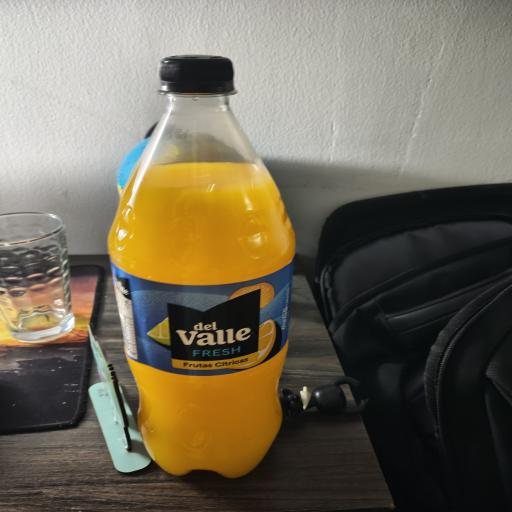Jugo del valle: (109, 56, 294, 477)
